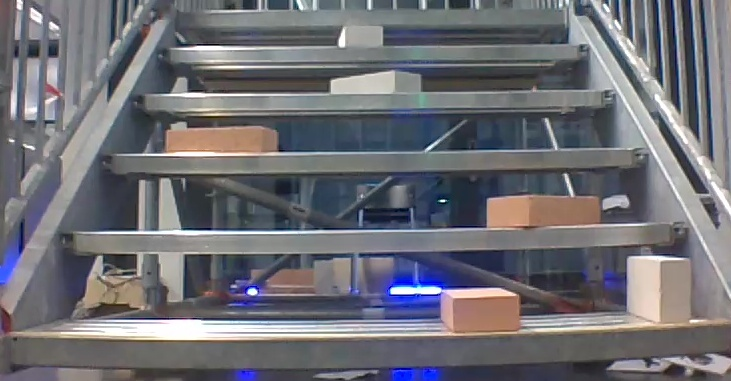brick: (627, 257, 691, 324), (487, 195, 599, 227), (440, 288, 519, 332), (166, 126, 277, 153), (330, 71, 420, 93), (338, 26, 382, 45)
edge: (8, 322, 731, 369), (61, 223, 685, 253), (100, 148, 646, 173), (135, 89, 617, 110), (158, 45, 588, 61), (177, 10, 569, 25)
